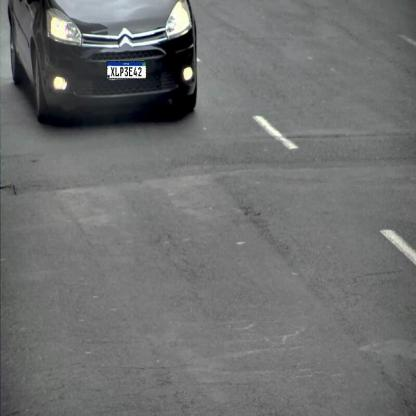PlacaM: (106, 61, 146, 79)
